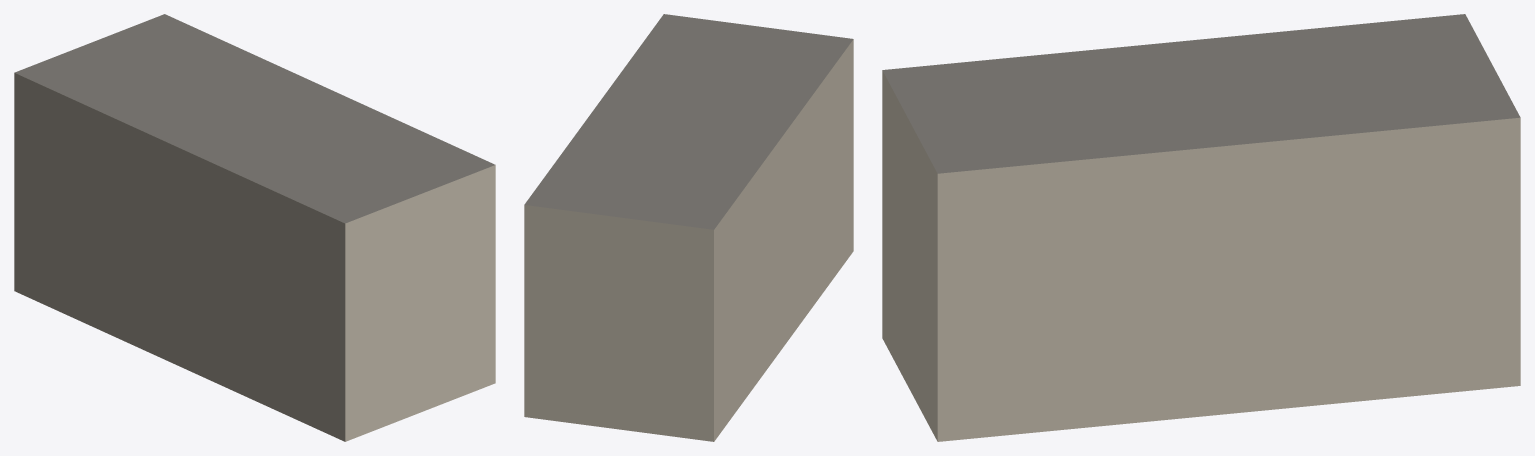
3 views of the same model, side by side, from view 1: azimuth 30°, elevation 25°; view 2: azimuth 150°, elevation 25°; view 3: azimuth 270°, elevation 25° (orthographic). The views are drawn at different scales.
Parts seen in each view (by area): view 1: HP-w380339902; view 2: HP-w380339902; view 3: HP-w380339902.
Part boxes in pixels (box(x1,y1,x2,y2)): HP-w380339902: box(14, 14, 495, 441); HP-w380339902: box(524, 14, 853, 441); HP-w380339902: box(882, 14, 1520, 441).
Bounding box in the file's own units: 19.16 × 15 × 32.35.
